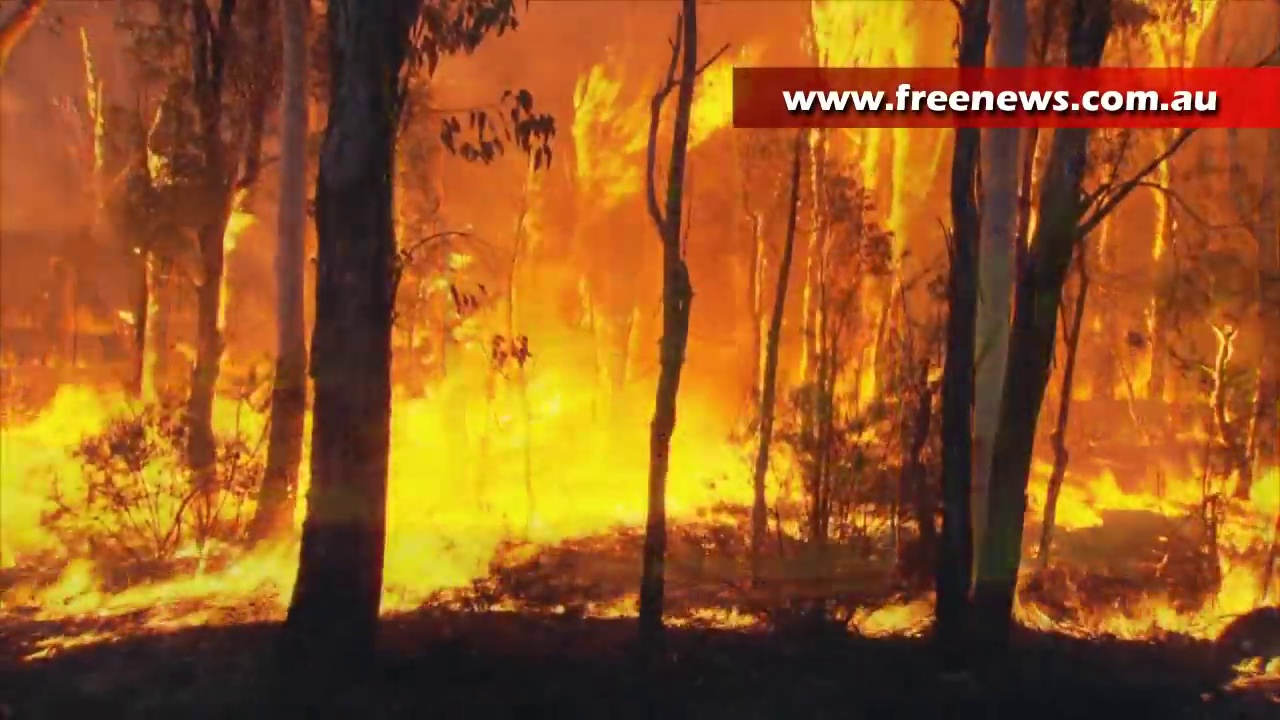fire: (389, 376, 794, 531), (1, 388, 266, 613), (1215, 434, 1280, 620), (565, 67, 643, 200), (1063, 471, 1203, 521), (805, 3, 910, 65), (847, 591, 936, 640), (1140, 5, 1203, 64), (683, 604, 751, 629), (691, 77, 729, 120), (1234, 657, 1280, 685), (224, 207, 251, 233)
